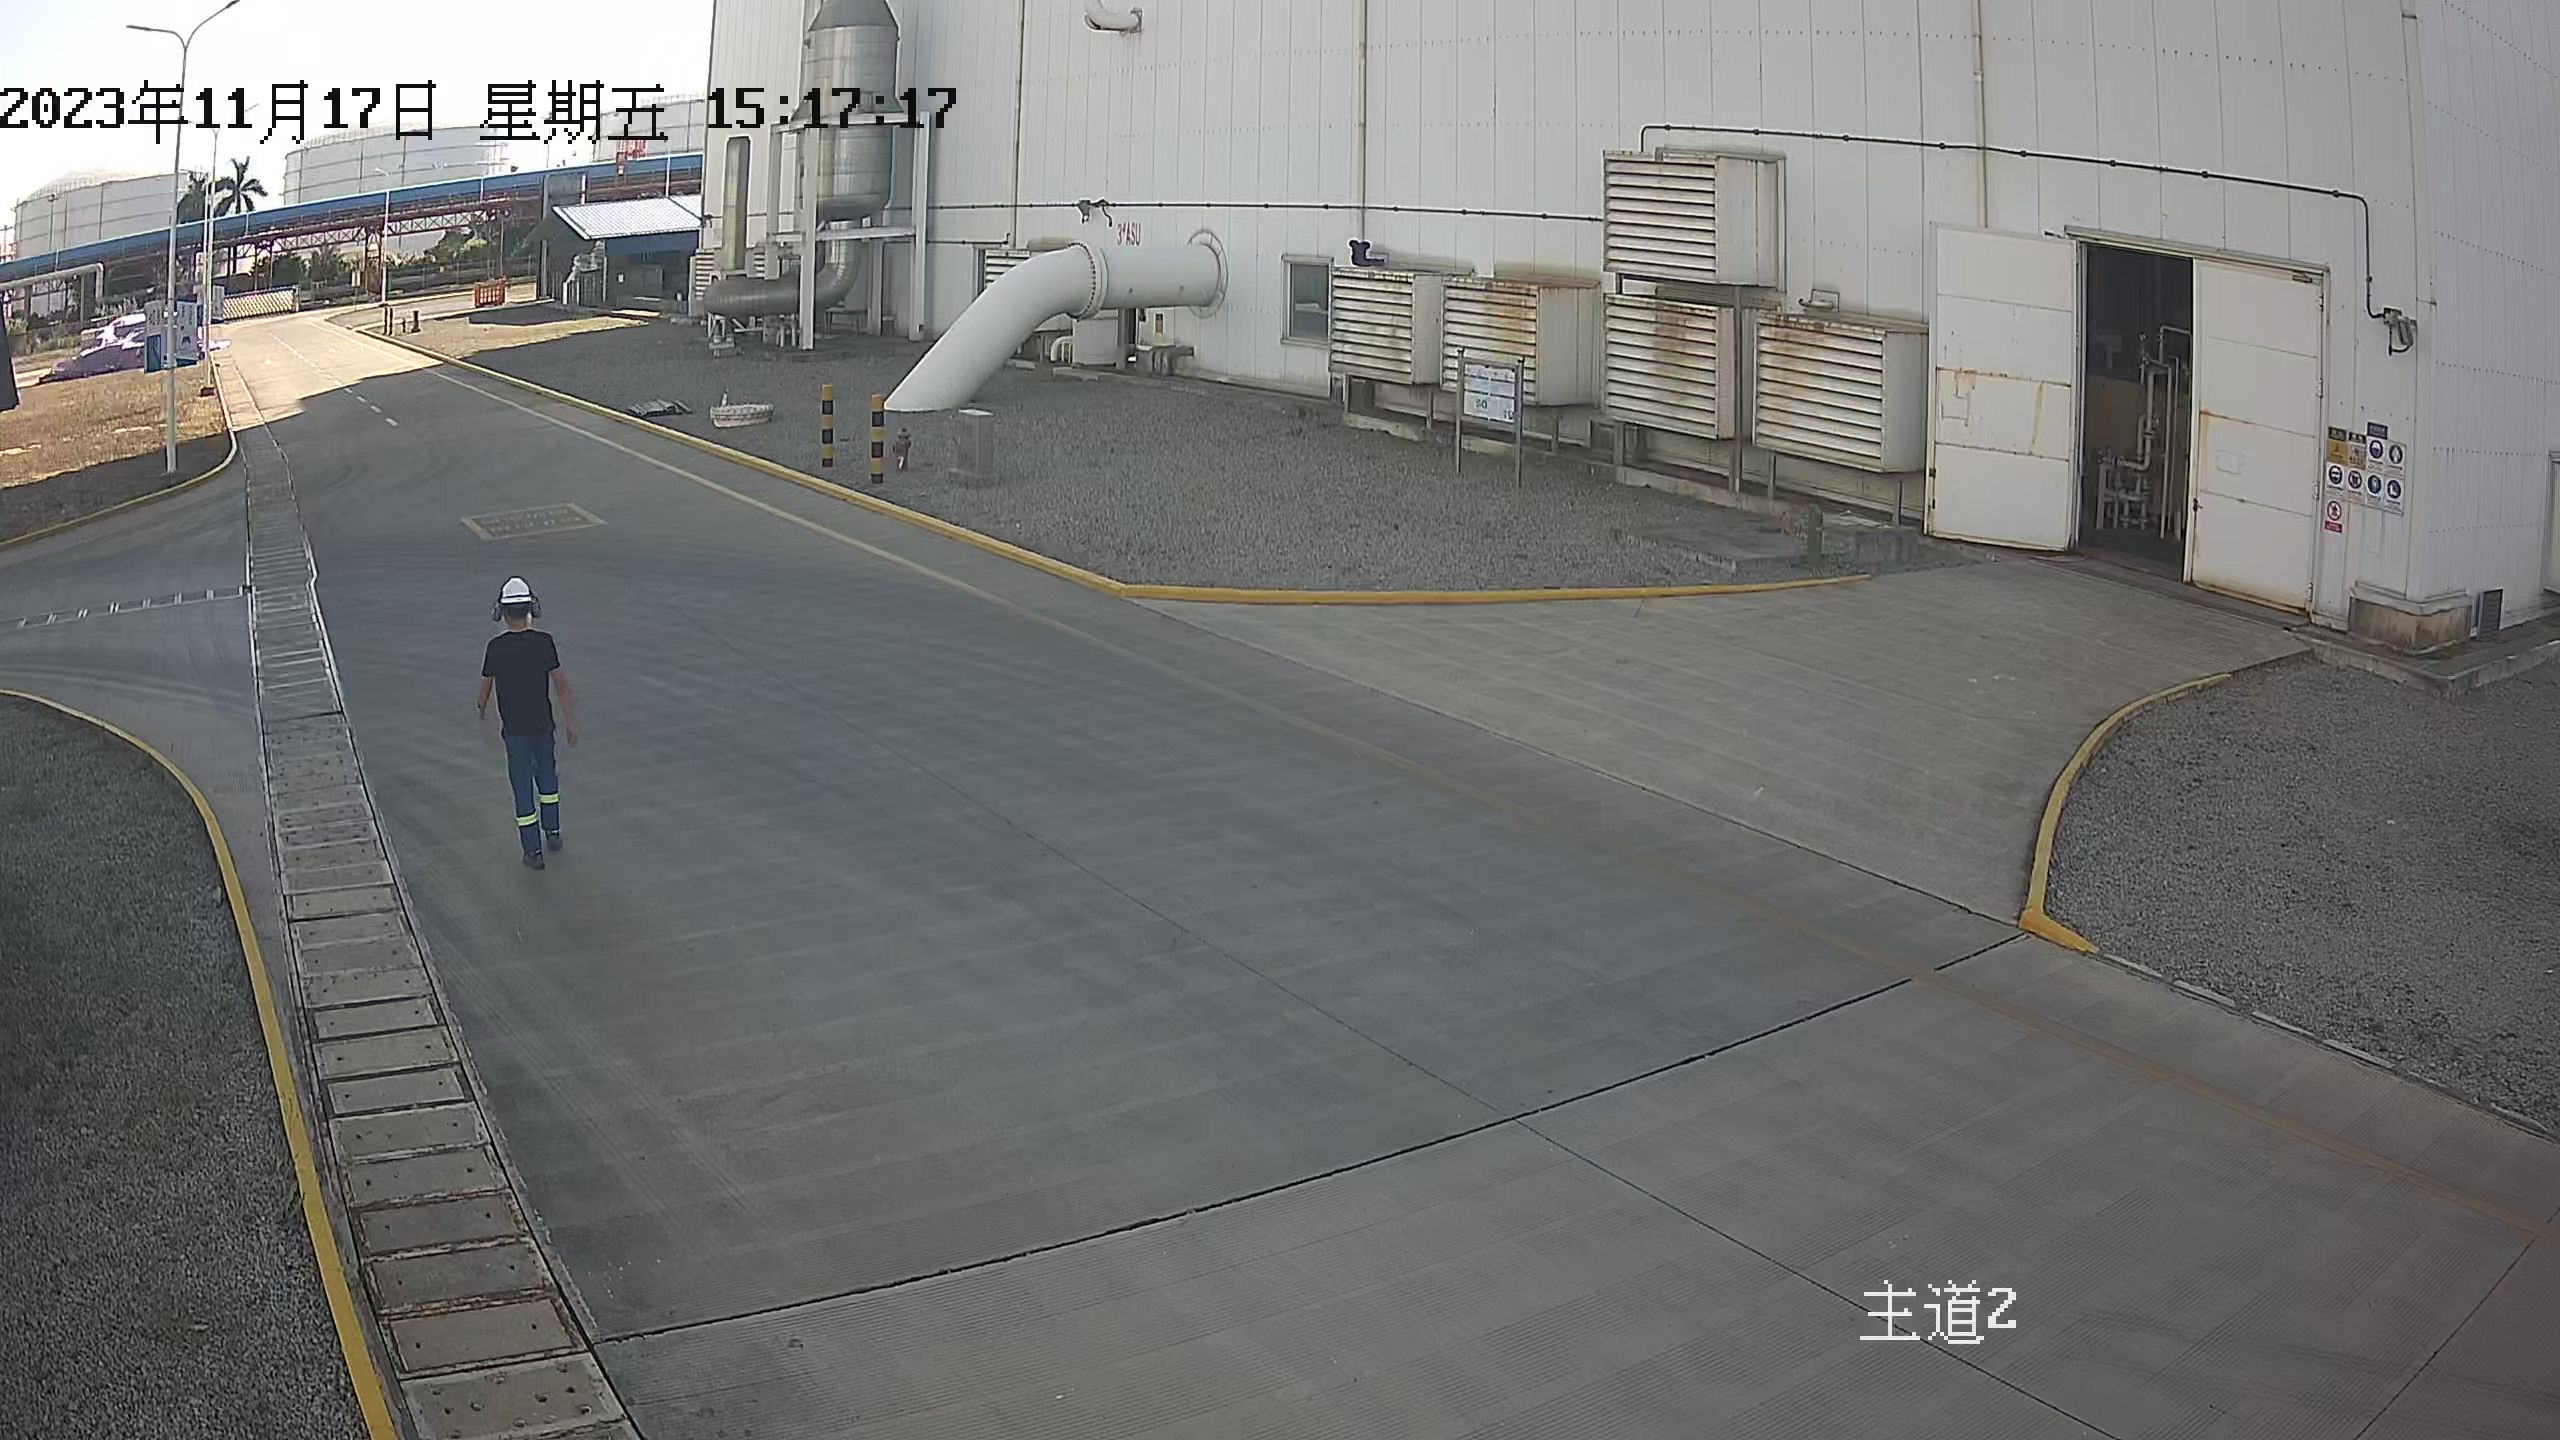Body_without_uniform: (445, 619, 648, 904)
Head_with_Helmet: (464, 557, 563, 630)
